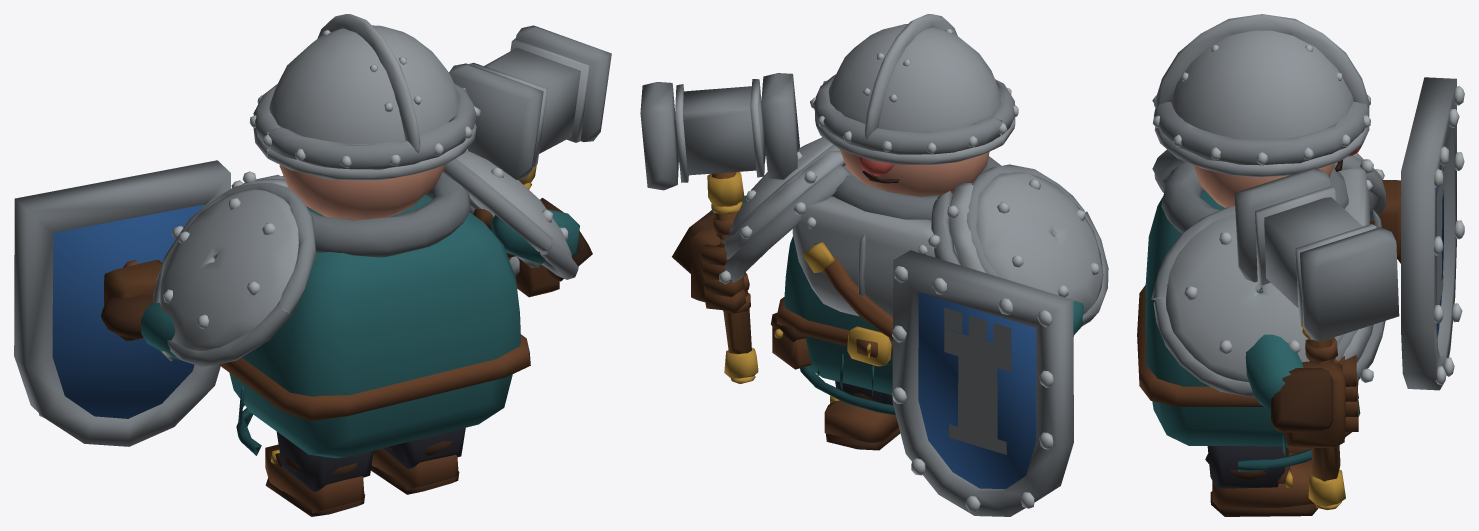
Rendered from heavy.glb.
The picture shows the model from 3 angles, left to right: view 1: azimuth 30°, elevation 25°; view 2: azimuth 150°, elevation 25°; view 3: azimuth 270°, elevation 25°; orthographic projection. The views are drawn at different scales.
Parts seen in each view (by area): view 1: Body.001, Arm1, Arm-1, Leg1.003, Leg-1.003; view 2: Body.001, Arm1, Arm-1, Leg-1.003; view 3: Body.001, Arm-1, Arm1, Leg-1.003.
Part boxes in pixels (box(x1,y1,x2,y2)): Body.001: box(153, 14, 578, 458); Arm1: box(14, 160, 230, 446); Arm-1: box(449, 25, 611, 297); Leg1.003: box(265, 432, 373, 516); Leg-1.003: box(371, 428, 465, 494); Body.001: box(719, 14, 1108, 414); Arm1: box(892, 250, 1083, 516); Arm-1: box(640, 73, 800, 383); Leg-1.003: box(824, 381, 900, 450); Body.001: box(1137, 14, 1385, 471); Arm-1: box(1234, 167, 1399, 509); Arm1: box(1370, 77, 1464, 390); Leg-1.003: box(1205, 446, 1318, 516).
Bounding box in the file's own units: 1.66 × 1.39 × 0.8876.
